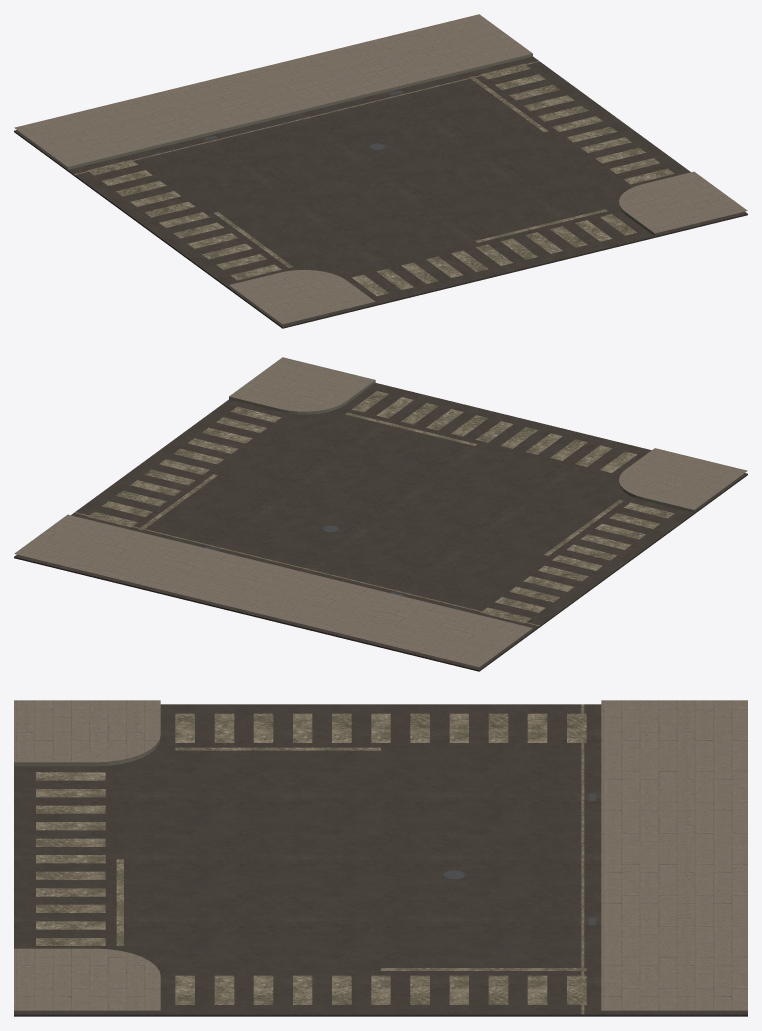
The model's file is road_tee.glb.
3 views of the same model, one above another, from view 1: azimuth 30°, elevation 25°; view 2: azimuth 150°, elevation 25°; view 3: azimuth 270°, elevation 25° (orthographic). The views are drawn at different scales.
Parts seen in each view (by area): view 1: road_tee_body; view 2: road_tee_body; view 3: road_tee_body.
Part boxes in pixels (box(x1,y1,x2,y2)): road_tee_body: box(14, 14, 747, 328); road_tee_body: box(14, 357, 747, 671); road_tee_body: box(14, 700, 747, 1016).
Size of the model in its own units: 1 by 0.009 by 1.
Materials: 6 (5 with a texture image).
